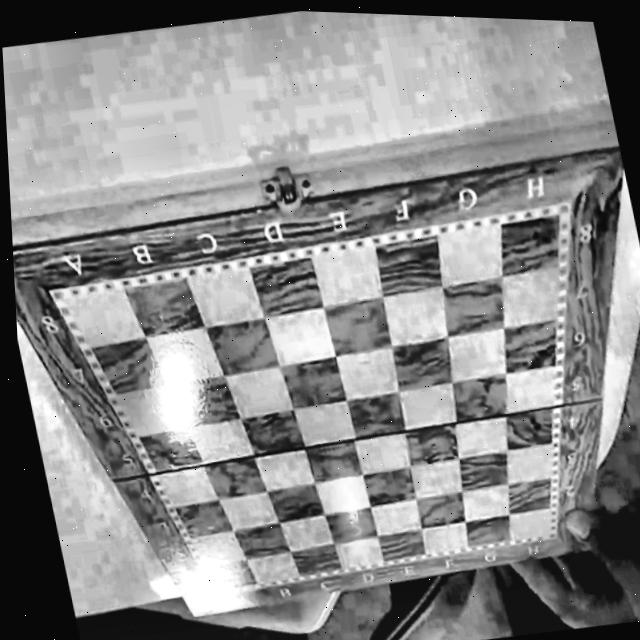chessboard: (47, 204, 571, 599)
p1: (208, 583, 219, 598)
p2: (62, 296, 73, 311)
p3: (547, 207, 567, 228)
p4: (540, 529, 553, 537)
